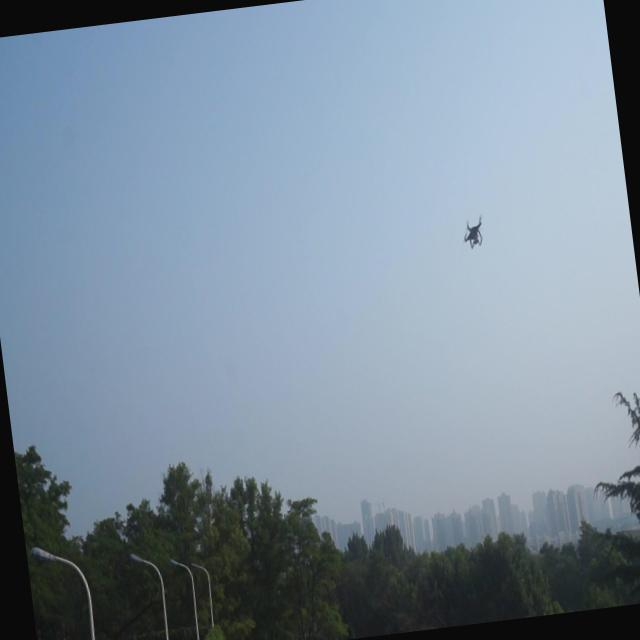drone: (461, 215, 486, 251)
